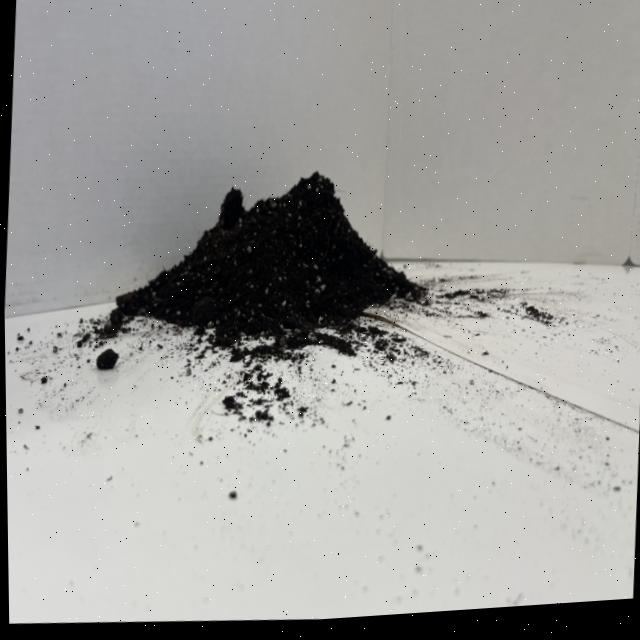soil: (105, 150, 436, 365)
